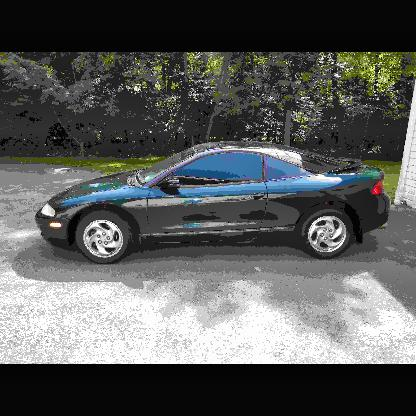Eagle Talon Hatchback 1998: (33, 144, 391, 263)
